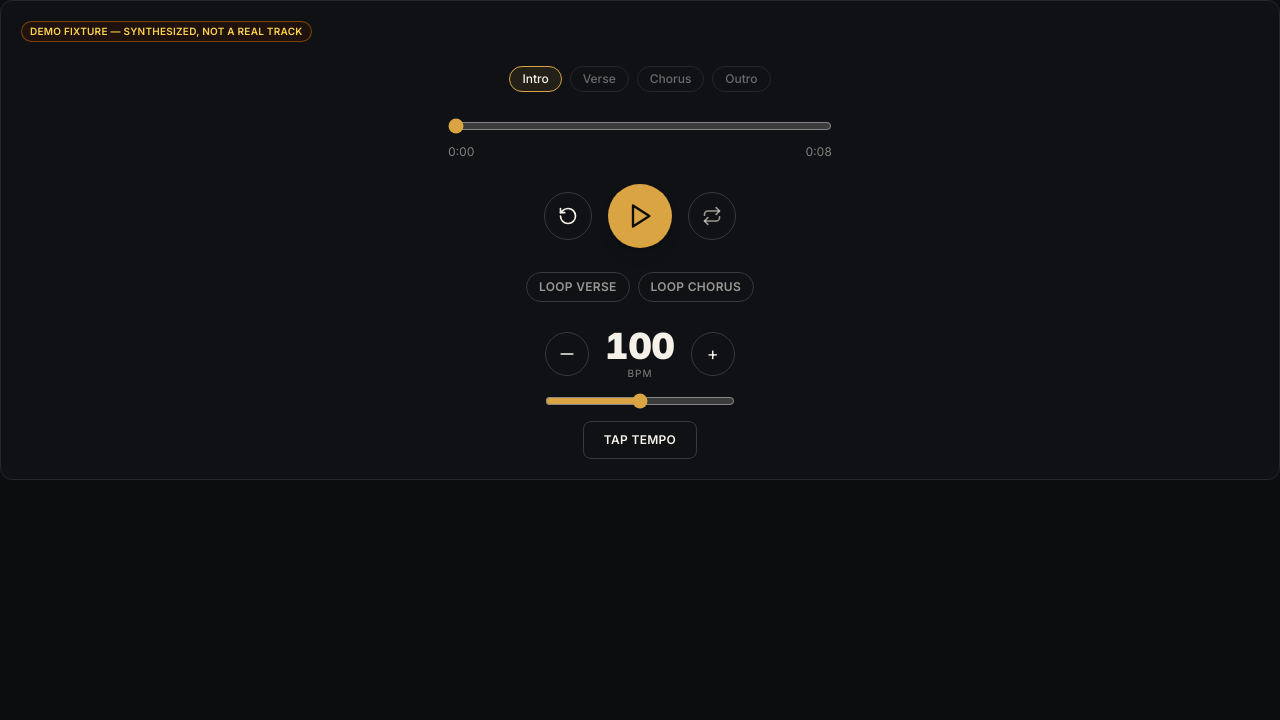
LoopPlayer › tap tempo shows a detected BPM after two taps and can be applied
expect the button named "Play" is shown: met, box [608,184,672,248]
Click the button "Tap Tempo": {"x": 640, "y": 440} [583,421,697,459]
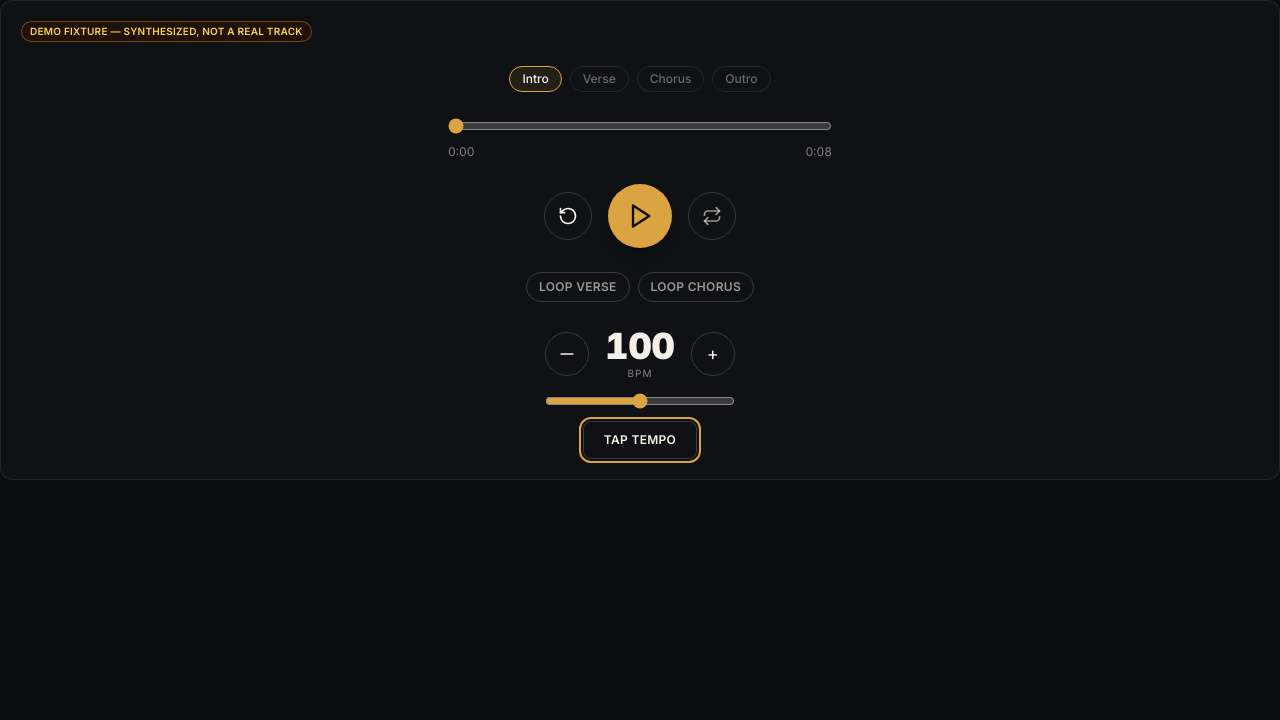
Click the button "Tap Tempo": {"x": 640, "y": 440} [583,421,697,459]
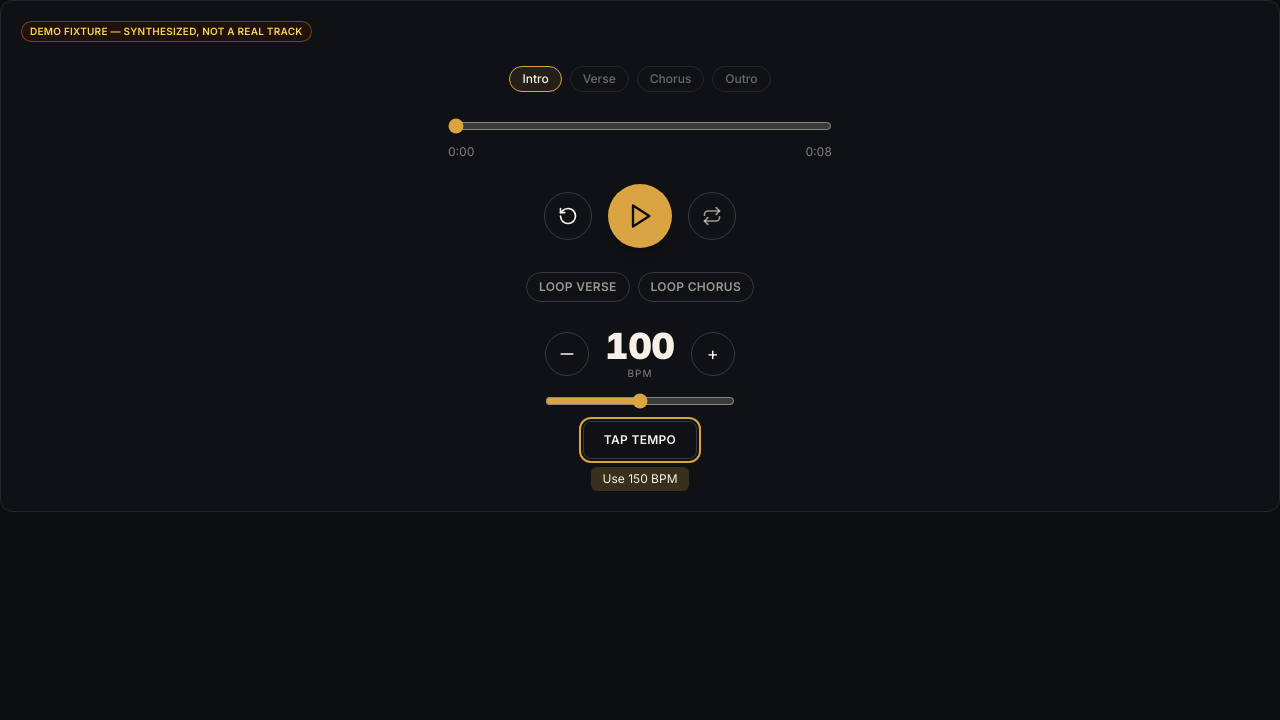
Click the button "Use 150 BPM": {"x": 640, "y": 479} [590,467,690,491]
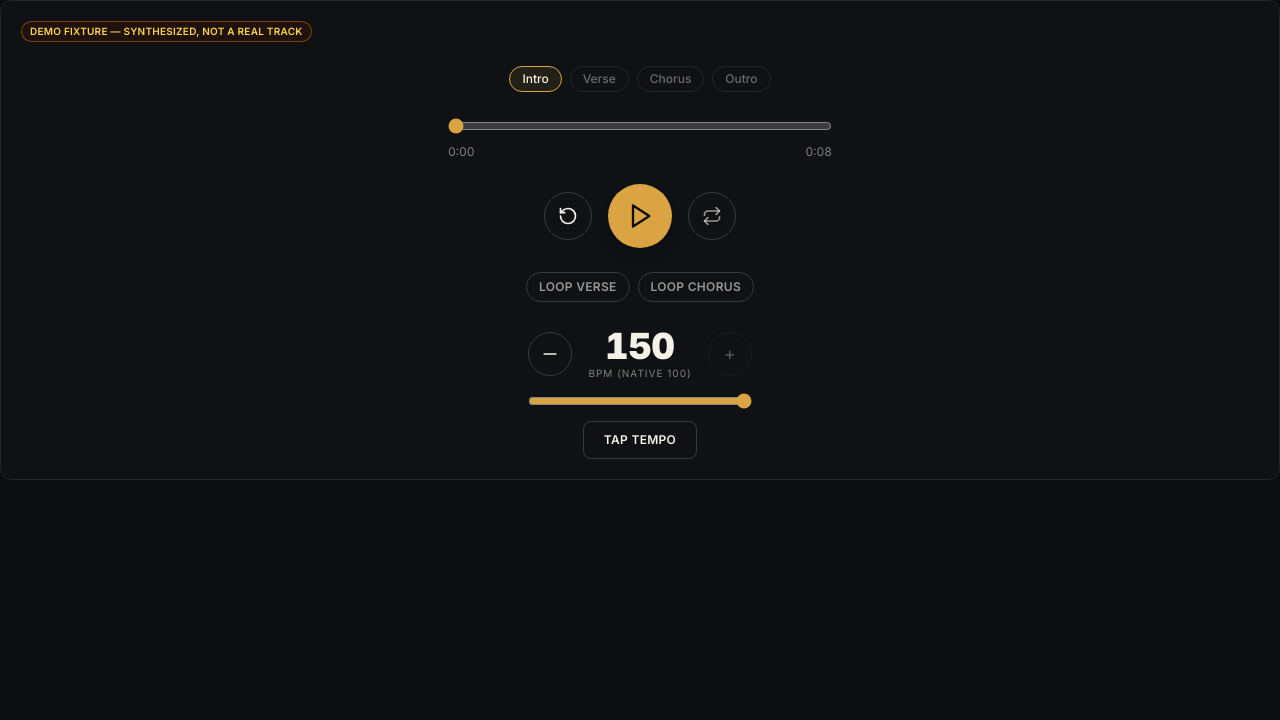
expect the button "Use 150 BPM" is gone: met
